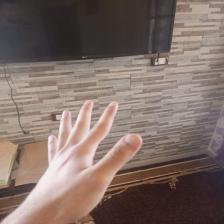five: (40, 100, 144, 220)
